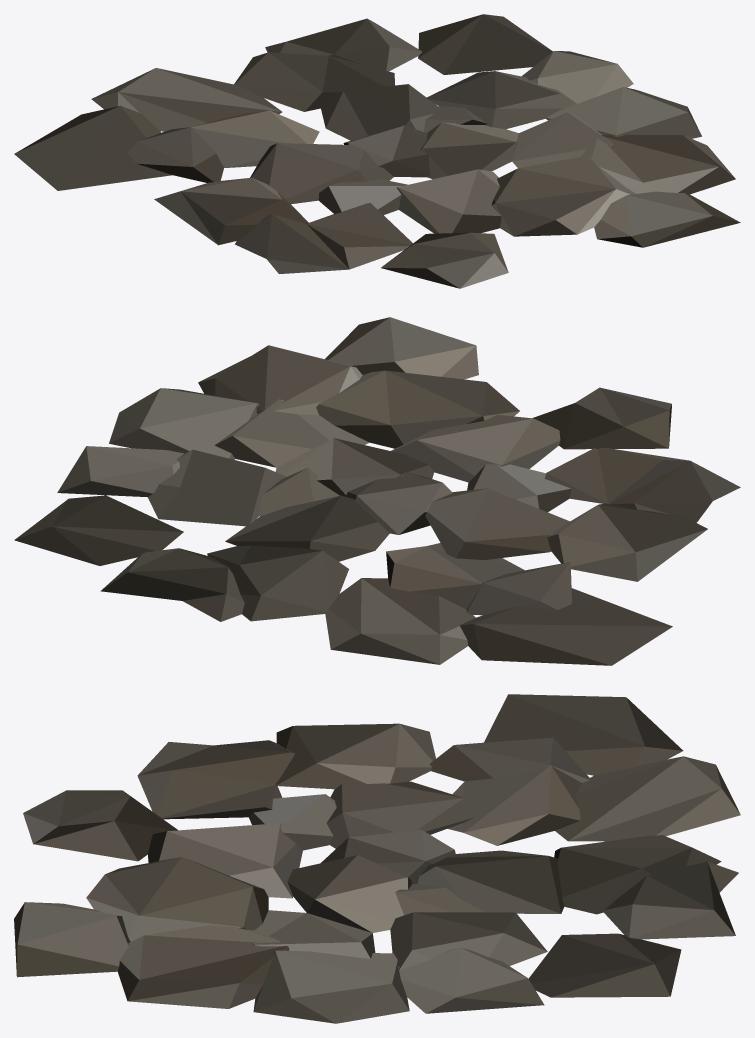
Rendered from Decal-RocksLarge_A.fbx.
3 views of the same model, one above another, from view 1: azimuth 30°, elevation 25°; view 2: azimuth 150°, elevation 25°; view 3: azimuth 270°, elevation 25° (orthographic). The views are drawn at different scales.
Parts seen in each view (by area): view 1: Decal-RocksLarge_A; view 2: Decal-RocksLarge_A; view 3: Decal-RocksLarge_A.
Part boxes in pixels (x1,y1,x2,y2): Decal-RocksLarge_A: (14, 14, 740, 288); Decal-RocksLarge_A: (14, 317, 740, 665); Decal-RocksLarge_A: (14, 694, 740, 1023).
Bounding box in the file's own units: 396 × 11.35 × 369.
